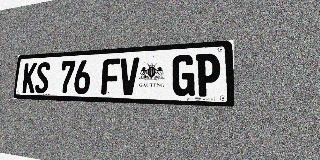6: (74, 60, 91, 94)
7: (59, 61, 76, 94)
F: (101, 58, 120, 95)
G: (172, 54, 195, 96)
K: (22, 63, 37, 93)
P: (196, 53, 220, 97)
S: (35, 62, 50, 93)
V: (119, 57, 139, 95)
